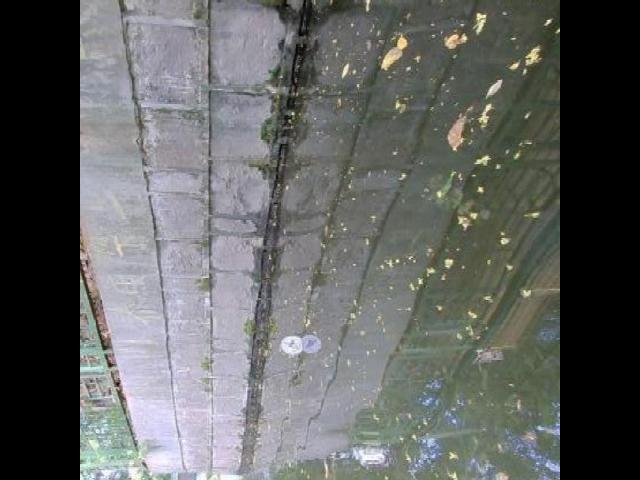Bottle: (274, 326, 310, 360)
